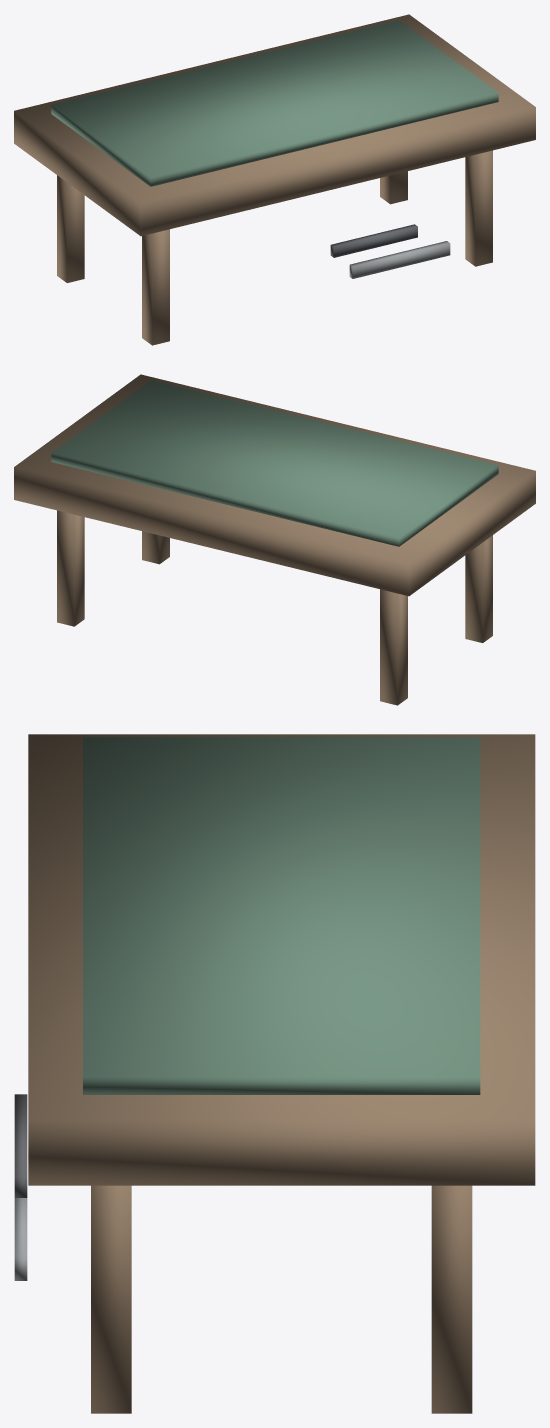
Rendered from pool_table__weathered.glb.
3 renders of one model, top to bottom at view 1: azimuth 30°, elevation 25°; view 2: azimuth 150°, elevation 25°; view 3: azimuth 270°, elevation 25°, orthographic. The views are drawn at different scales.
Visible parts, largest first — view 1: world; view 2: world; view 3: world.
Part boxes in pixels (x1,y1,x2,y2): world: [14, 14, 535, 345]; world: [14, 374, 535, 705]; world: [14, 734, 535, 1413].
Size of the model in its own units: 2.25 by 0.9257 by 1.28.
